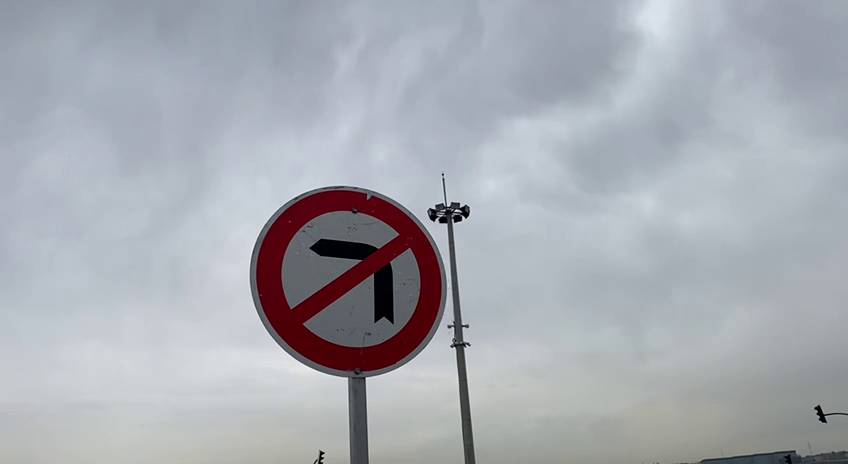noTurnLeft: (243, 174, 453, 382)
